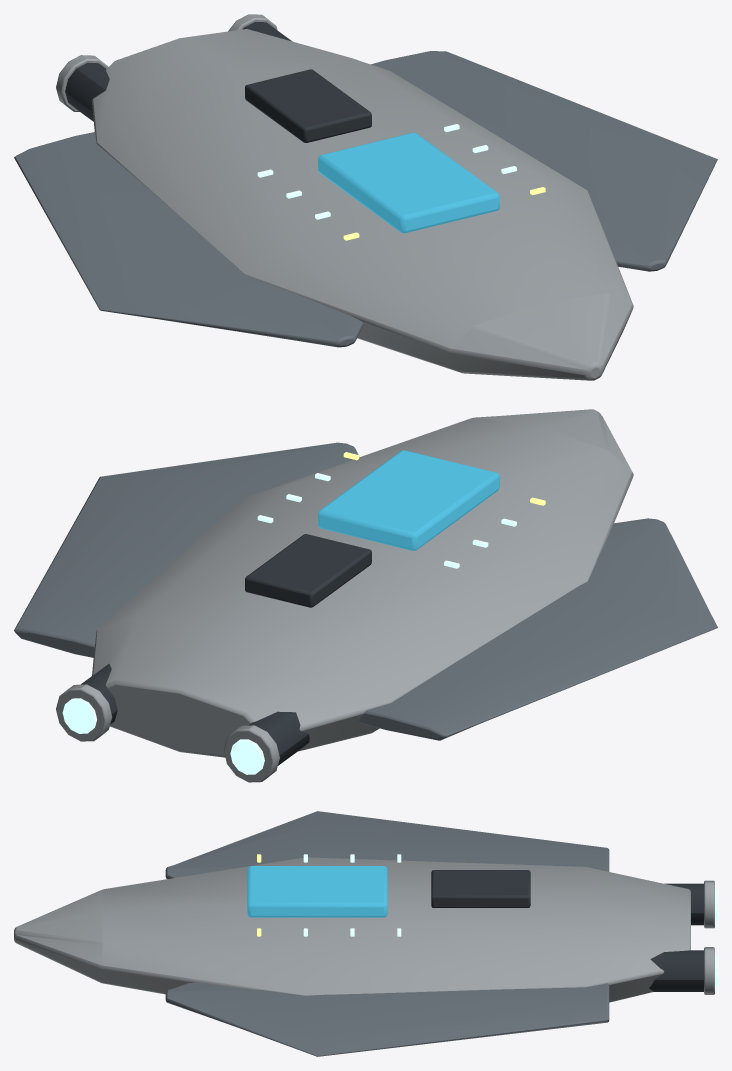
Rendered from QW_EscortWing_LOD1.fbx.
3 renders of one model, top to bottom at view 1: azimuth 30°, elevation 25°; view 2: azimuth 150°, elevation 25°; view 3: azimuth 270°, elevation 25°, orthographic. The views are drawn at different scales.
Parts seen in each view (by area): view 1: QW_EscortWing_LOD1; view 2: QW_EscortWing_LOD1; view 3: QW_EscortWing_LOD1.
Boxes of the visible parts, box(x1,y1,x2,y2) form: QW_EscortWing_LOD1: box(14, 14, 717, 380); QW_EscortWing_LOD1: box(14, 409, 717, 782); QW_EscortWing_LOD1: box(14, 811, 717, 1056).
Bounding box in the file's own units: 9.95 × 1.67 × 12.06.
